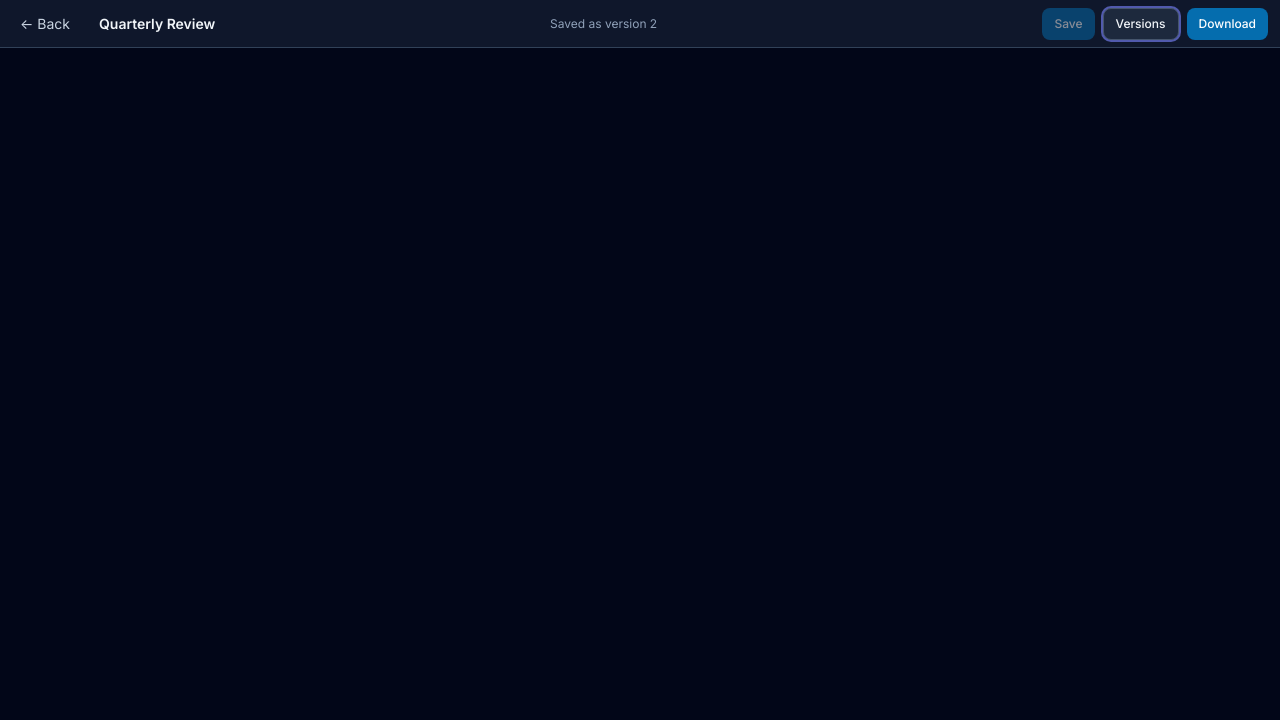
EditorPage › traps focus in version history and restores it to the opener
Click the button "Versions" at (1140, 24), box [1102, 8, 1178, 40]
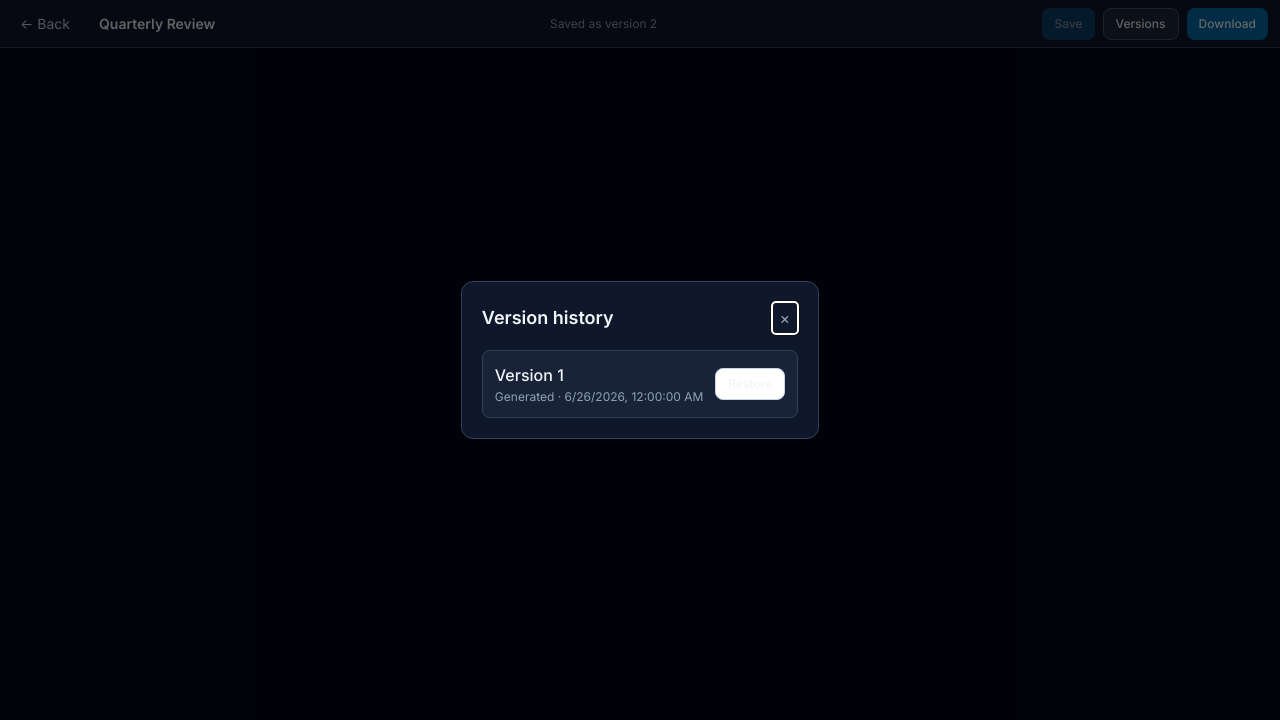
Press Tab in the button named "Close version history", box [772, 302, 798, 334]
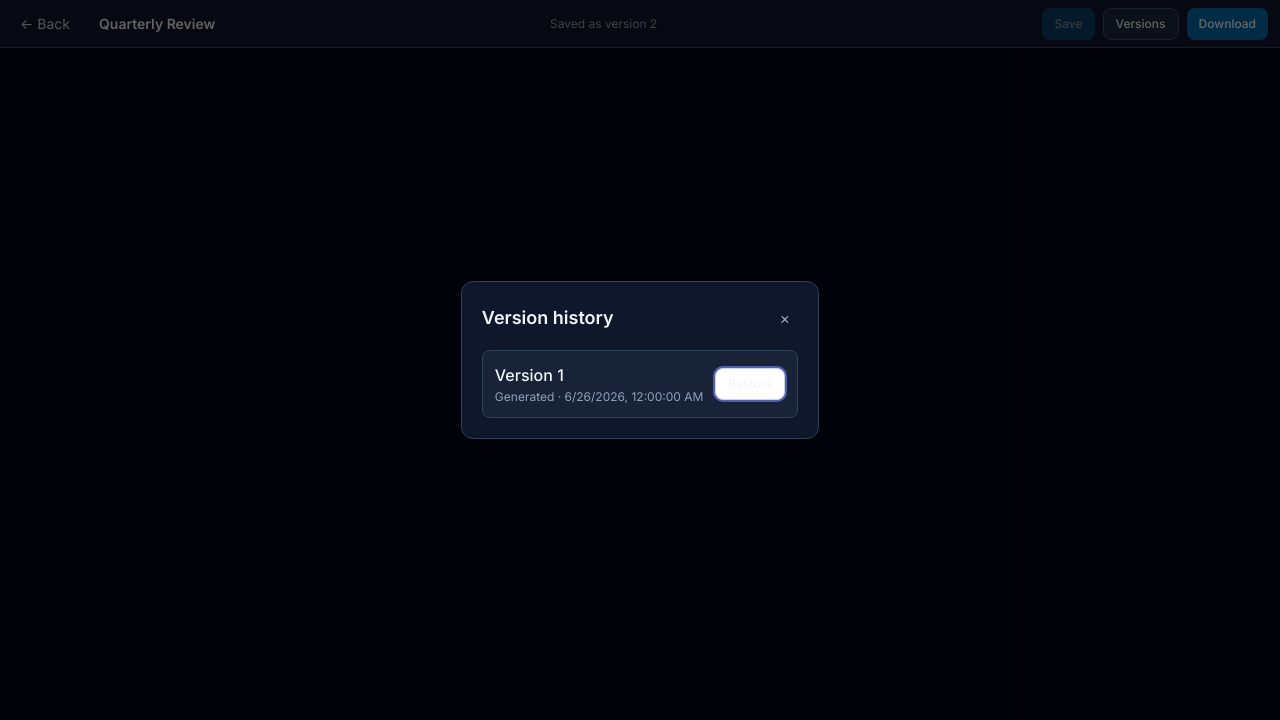
Press Tab in the button with aria-label "Restore version 1", box [715, 368, 785, 400]
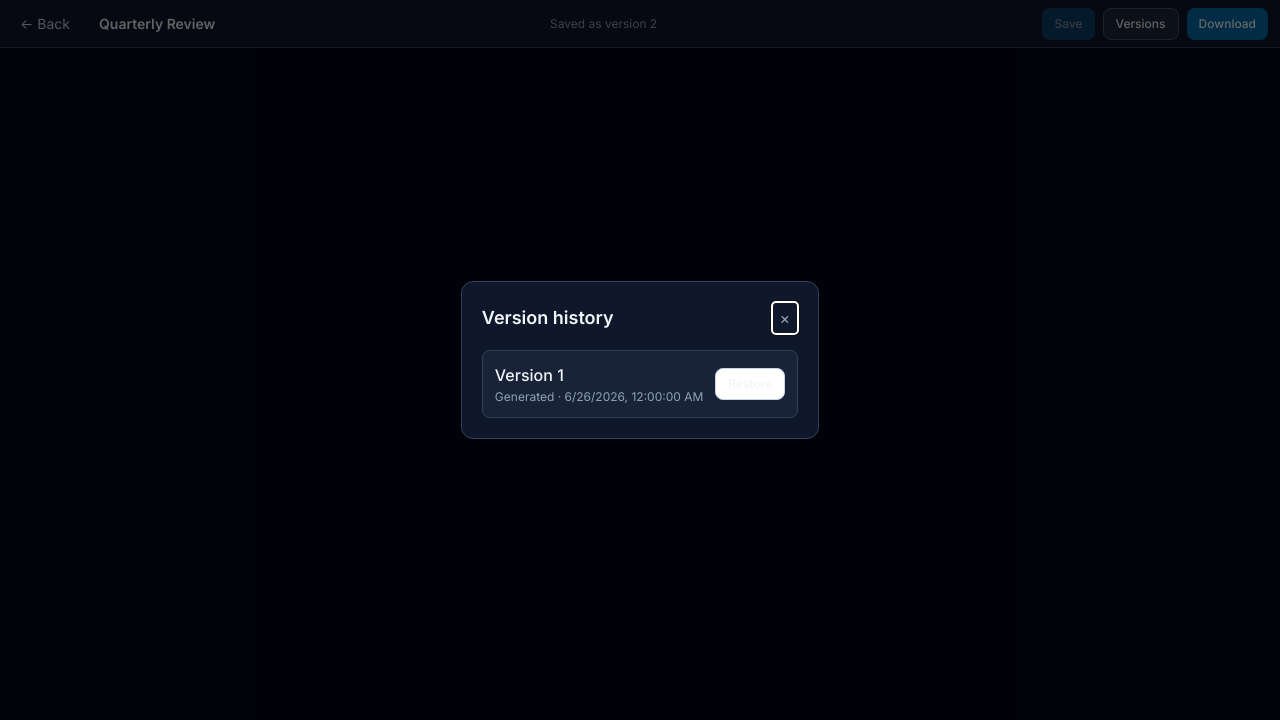
Press Escape in the dialog "Version history", box [461, 281, 819, 439]
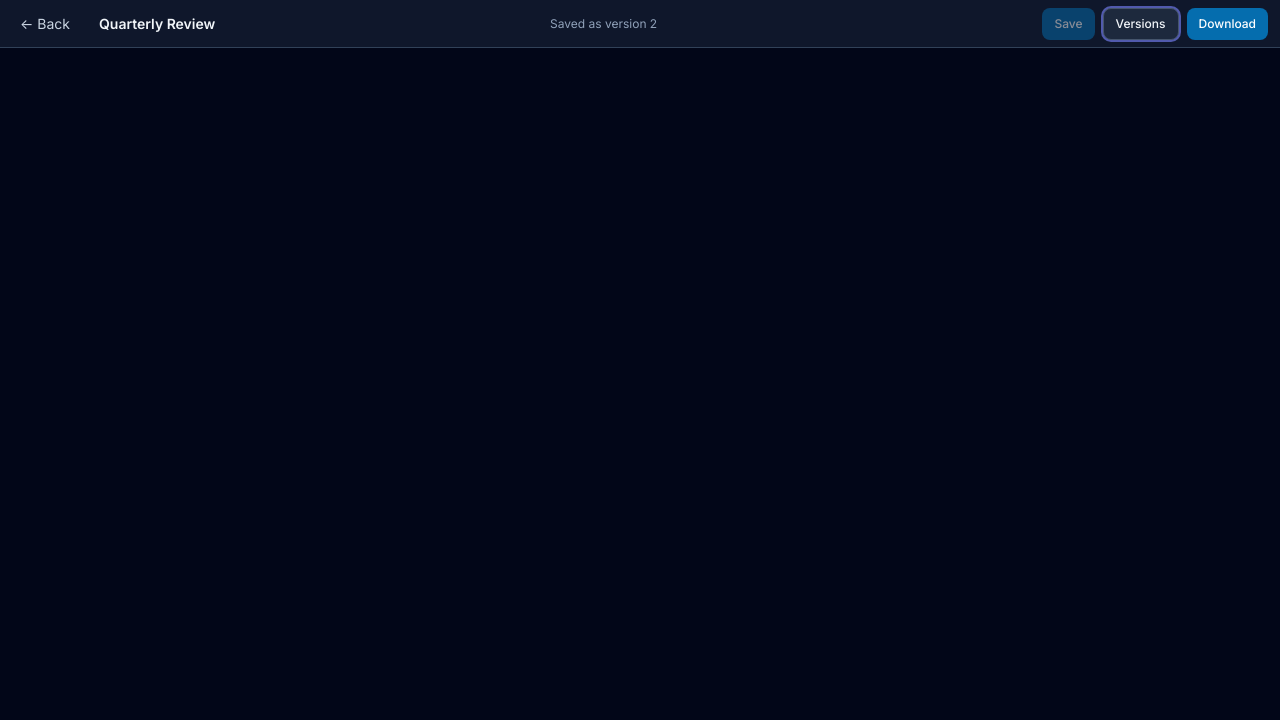
Result: the heading "Version history" is gone
